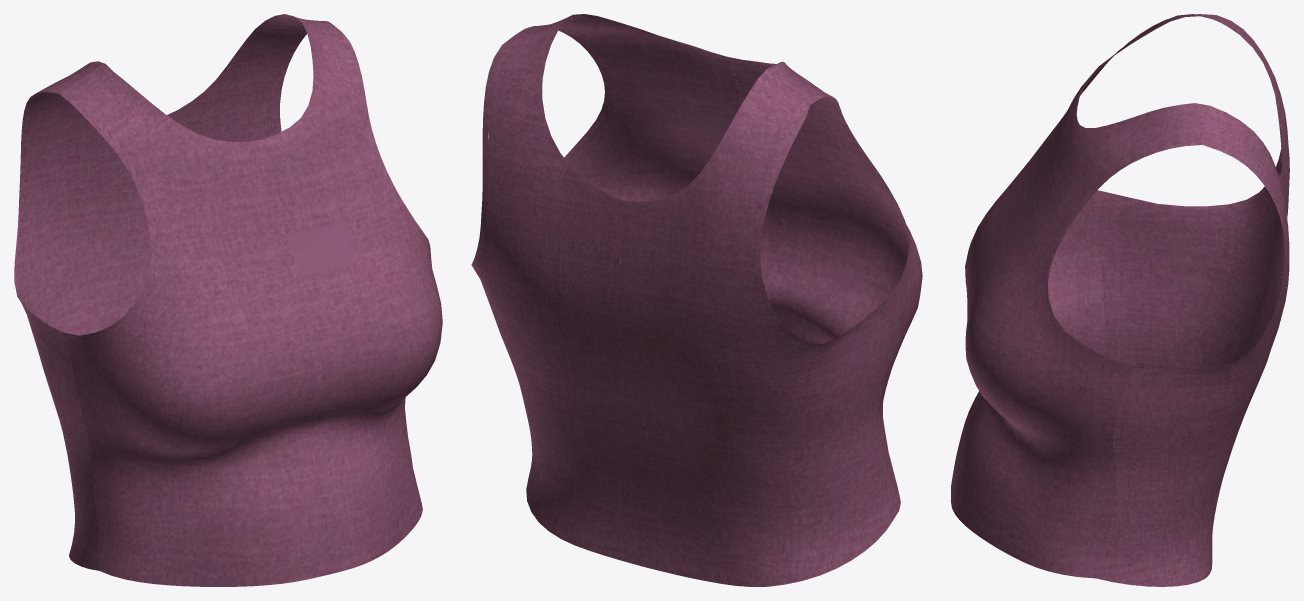
File: conjunto-deportivo-mujer-lite.glb
The picture shows the model from 3 angles, left to right: view 1: azimuth 30°, elevation 25°; view 2: azimuth 150°, elevation 25°; view 3: azimuth 270°, elevation 25°; orthographic projection. The views are drawn at different scales.
Parts seen in each view (by area): view 1: Object_34, Object_50, Object_42, Object_26, Object_14, Object_22, Object_18, Object_38, Object_10, Object_54, Object_30; view 2: Object_42, Object_26, Object_34, Object_50, Object_18, Object_10, Object_46, Object_30, Object_22, Object_14; view 3: Object_50, Object_26, Object_42, Object_34, Object_22, Object_10, Object_54, Object_18.
Part boxes in pixels (<box>): Object_34: <box>65,67,330,586</box>; Object_50: <box>264,17,442,573</box>; Object_42: <box>16,64,150,570</box>; Object_26: <box>171,15,326,147</box>; Object_14: <box>59,89,156,338</box>; Object_22: <box>326,23,429,245</box>; Object_18: <box>14,89,64,338</box>; Object_38: <box>100,64,263,147</box>; Object_10: <box>273,21,331,134</box>; Object_54: <box>262,16,316,145</box>; Object_30: <box>167,14,293,117</box>; Object_42: <box>621,75,893,586</box>; Object_26: <box>473,24,662,571</box>; Object_34: <box>729,61,922,518</box>; Object_50: <box>523,16,783,305</box>; Object_18: <box>754,103,884,345</box>; Object_10: <box>471,34,520,267</box>; Object_46: <box>622,69,769,208</box>; Object_30: <box>536,20,622,207</box>; Object_22: <box>516,26,611,159</box>; Object_14: <box>803,93,909,305</box>; Object_50: <box>951,108,1203,578</box>; Object_26: <box>1096,108,1289,586</box>; Object_42: <box>1103,14,1289,374</box>; Object_34: <box>951,15,1200,496</box>; Object_22: <box>1044,139,1203,367</box>; Object_10: <box>1134,140,1286,369</box>; Object_54: <box>1073,103,1198,131</box>; Object_18: <box>1124,14,1281,208</box>.
Bounding box in the file's own units: 0.2805 × 0.38 × 0.2438.
12 materials, 12 textured.
